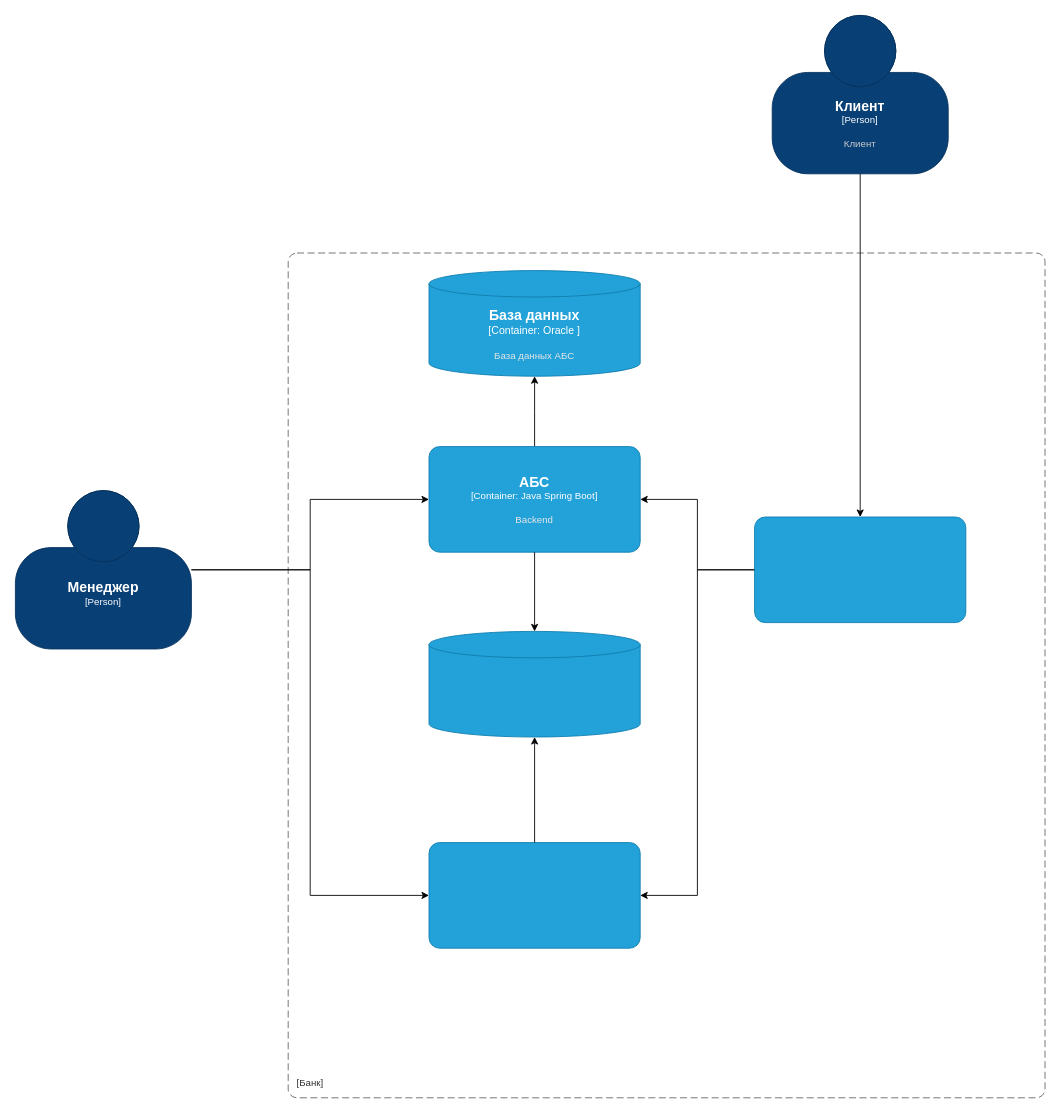
Some shapes in this 1060 by 1113 pixel diagram are drawn without their labels. Each missing label, with the centre of its shape:
"Интернет-банк [Container: JavaScript, React]" belongs at (860,569).
"Кол-центр [Container: Java Spring Boot]" belongs at (534,895).
"Файловый сервер [Container: ftp] Файловый сервер со ставками по депозитам" belongs at (534,684).
